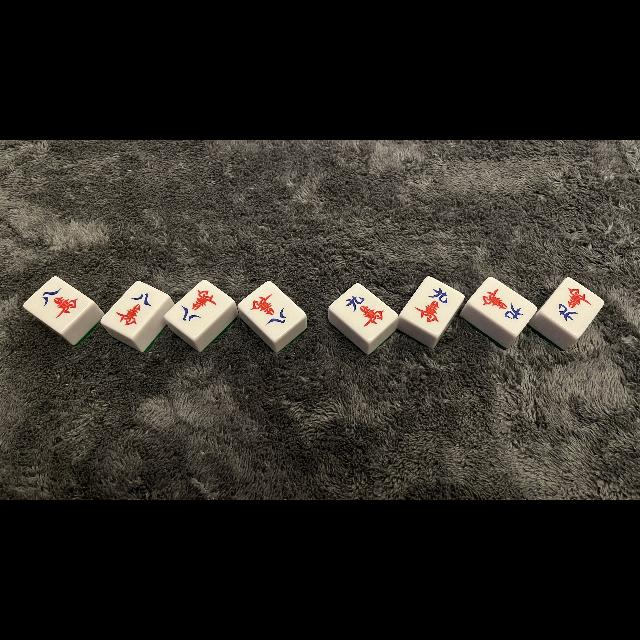c8: (246, 288, 296, 332), (175, 285, 223, 329), (35, 282, 85, 324), (113, 288, 157, 332)
c9: (337, 288, 389, 332), (476, 284, 528, 324), (551, 283, 595, 327), (412, 282, 454, 328)
